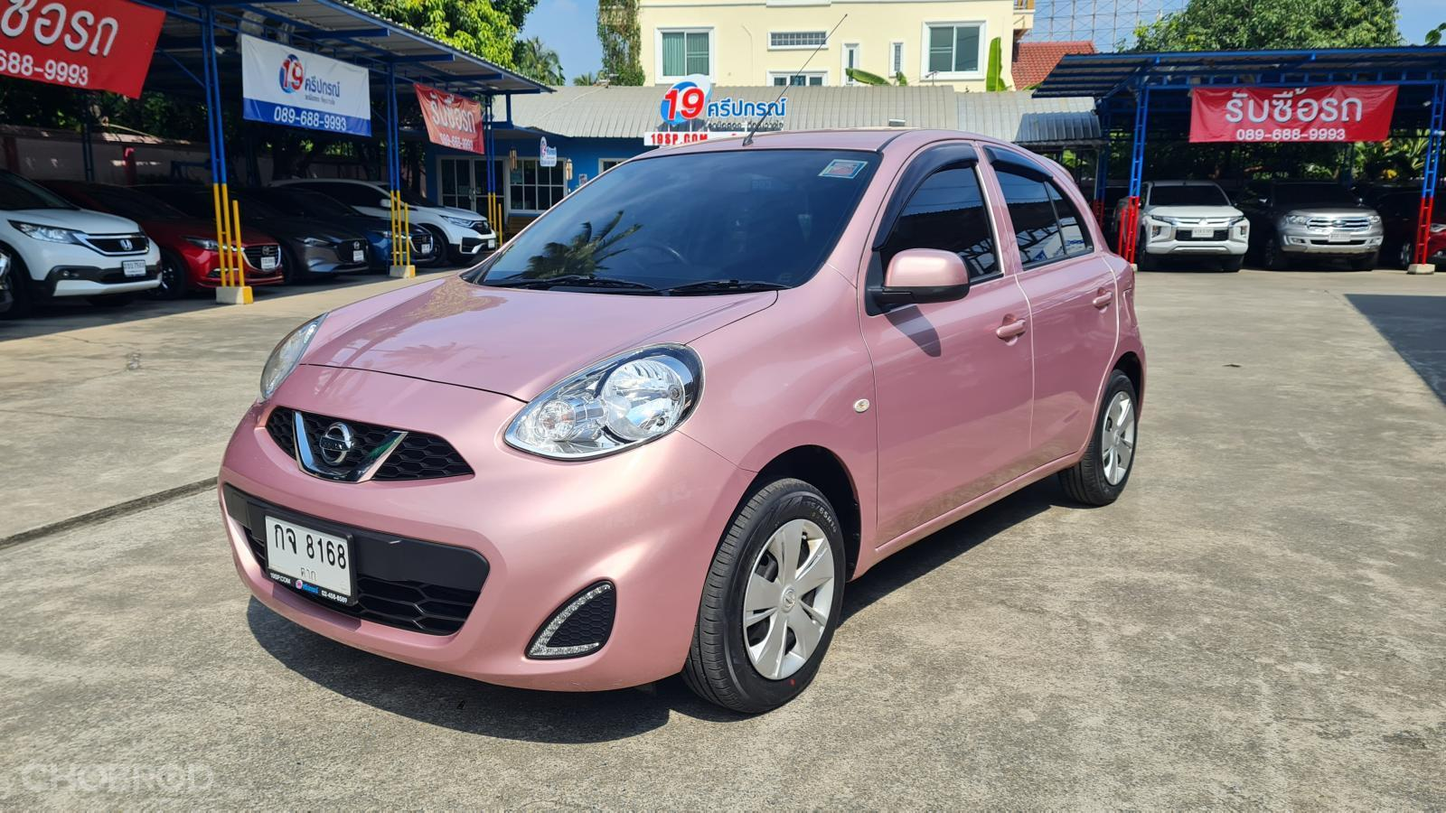license-plate: (268, 507, 358, 614), (121, 256, 153, 280), (1191, 225, 1213, 241), (260, 254, 279, 271), (1330, 230, 1353, 244), (354, 247, 364, 261), (488, 239, 498, 250), (421, 243, 431, 253)
